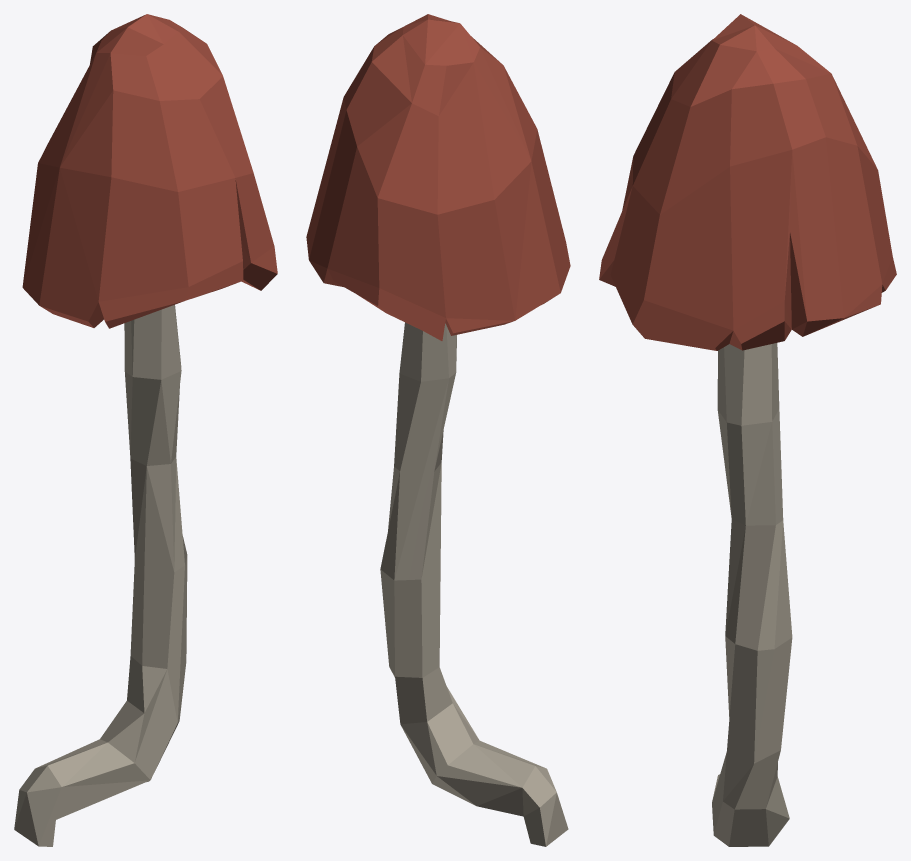
Rendered from SM_Env_Mushroom_Giant_04.glb.
The picture shows the model from 3 angles, left to right: view 1: azimuth 30°, elevation 25°; view 2: azimuth 150°, elevation 25°; view 3: azimuth 270°, elevation 25°; orthographic projection. The views are drawn at different scales.
Parts seen in each view (by area): view 1: SM_Env_Mushroom_Giant_04; view 2: SM_Env_Mushroom_Giant_04; view 3: SM_Env_Mushroom_Giant_04.
Boxes of the visible parts, left/top/right/bottom form: SM_Env_Mushroom_Giant_04: left=14, top=14, right=277, bottom=846; SM_Env_Mushroom_Giant_04: left=306, top=14, right=570, bottom=846; SM_Env_Mushroom_Giant_04: left=599, top=14, right=896, bottom=846.
Bounding box in the file's own units: 0.00621 × 0.0203 × 0.00631.
Materials: 1 (1 with a texture image).
